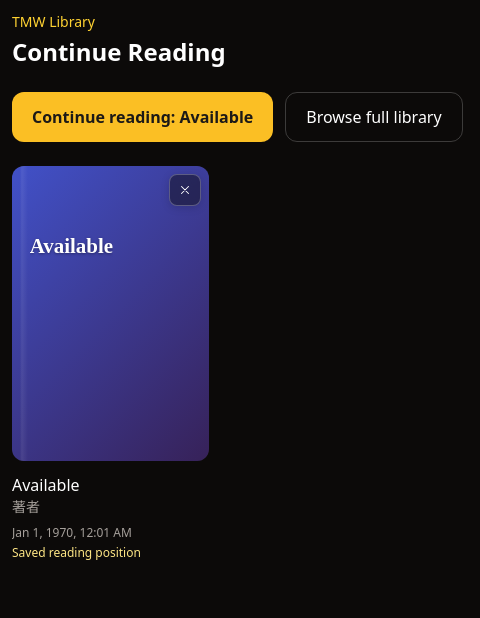
Test case: ContinueReading › keeps the book visible and reports a failed removal
The image size is (480, 618).
Click the button named "Remove from recently read: Available": (185, 190) [169, 174, 201, 206]
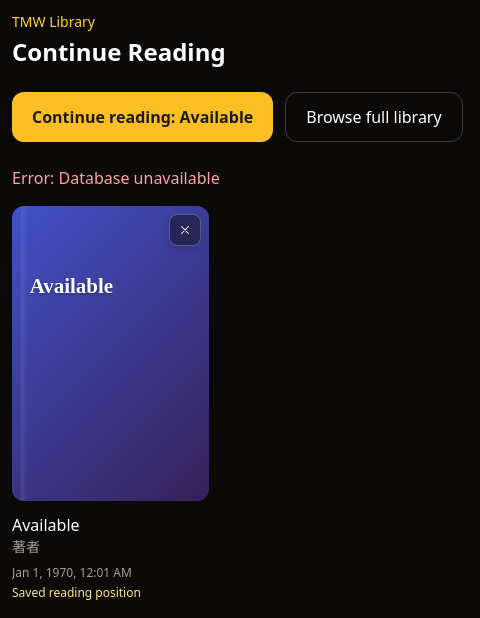
expect the button with aria-label "Resume: Available" is enabled: met, box [12, 206, 209, 601]
expect the message shows "Database unavailable": met, box [12, 167, 220, 189]
